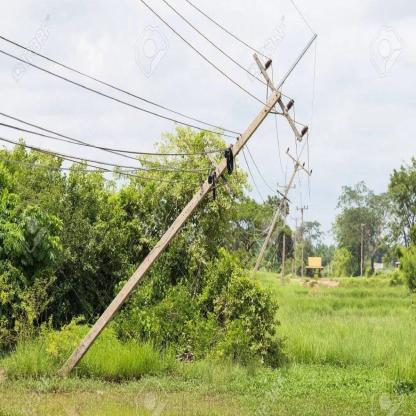Electrical Pole: (40, 42, 313, 402), (241, 142, 317, 291)
